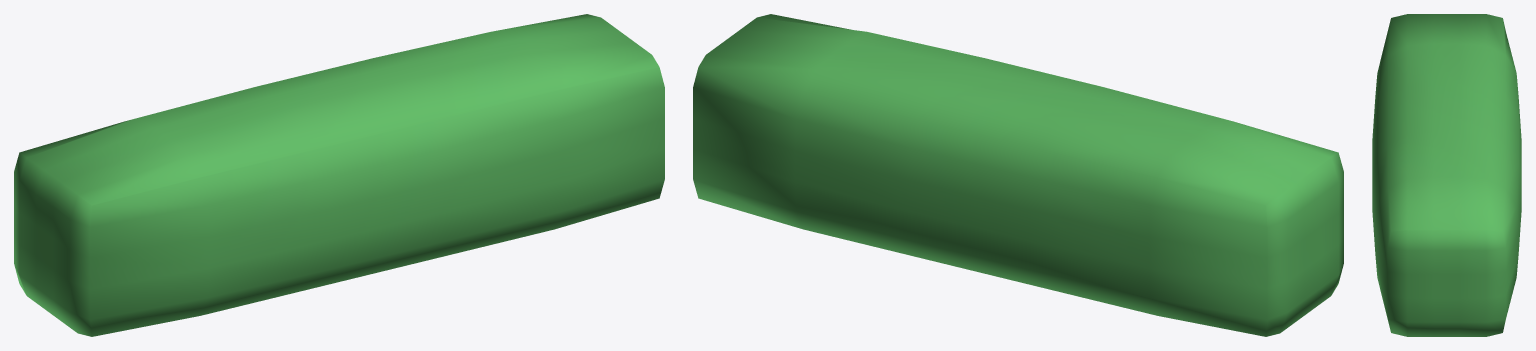
The model's file is 积木长条.glb.
3 views of the same model, side by side, from view 1: azimuth 30°, elevation 25°; view 2: azimuth 150°, elevation 25°; view 3: azimuth 270°, elevation 25° (orthographic). The views are drawn at different scales.
Visible parts, largest first — view 1: BlockPlank; view 2: BlockPlank; view 3: BlockPlank.
Part boxes in pixels (x1=…): BlockPlank: x1=14, y1=14, x2=664, y2=336; BlockPlank: x1=693, y1=14, x2=1343, y2=336; BlockPlank: x1=1372, y1=14, x2=1521, y2=336.
Size of what is drawn, in the model's own units: 0.16 by 0.0428 by 0.0455.
Materials: 1 (1 with a texture image).
